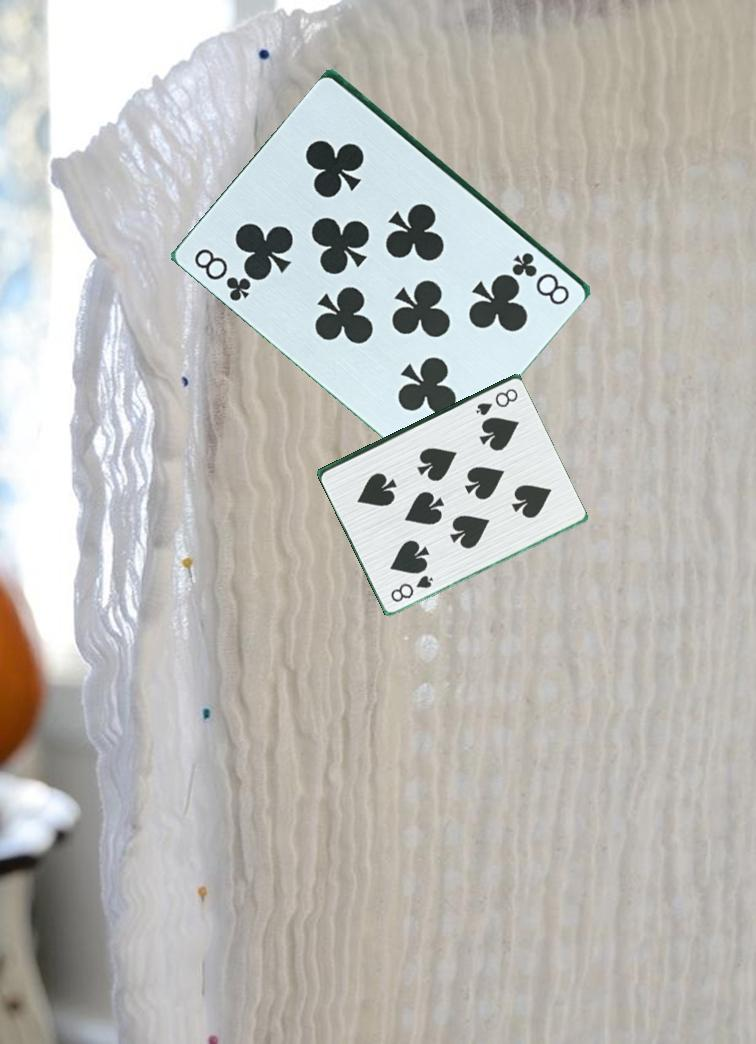8c: (191, 244, 257, 304), (510, 247, 574, 308)
8s: (379, 572, 436, 606), (470, 385, 521, 419)
